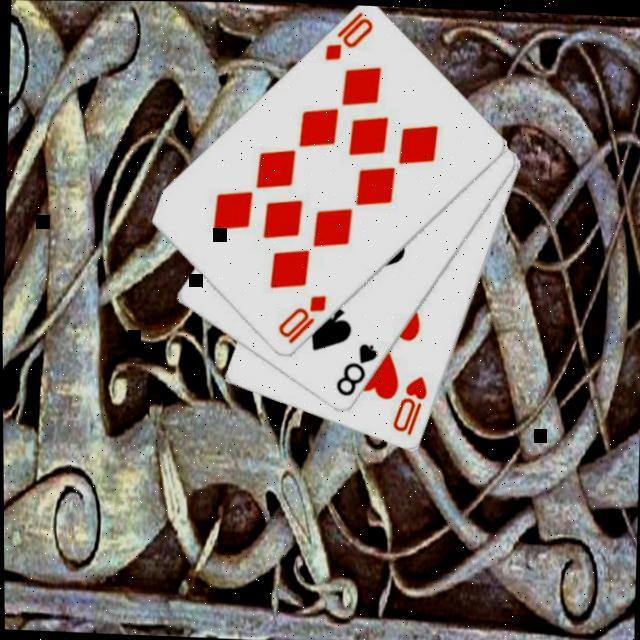10D: (276, 288, 332, 346), (323, 5, 377, 63)
10H: (391, 369, 432, 436)
8S: (333, 337, 383, 398)
